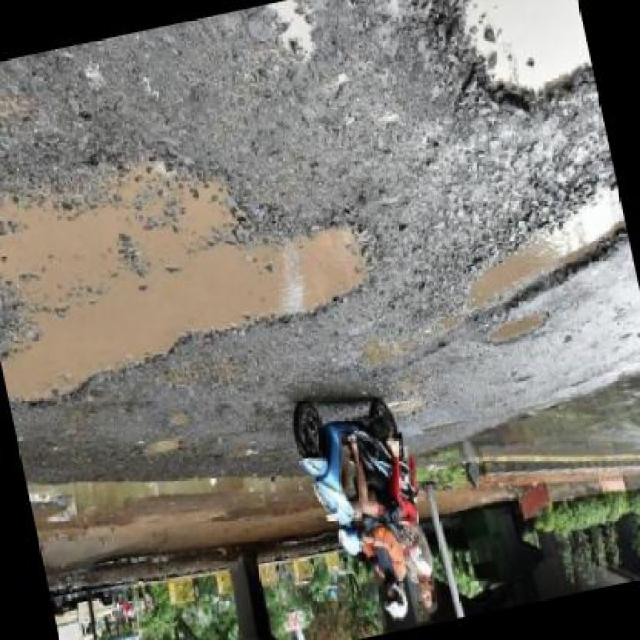pothole: (1, 112, 394, 418), (442, 183, 638, 325), (411, 0, 602, 138), (480, 307, 554, 355)
